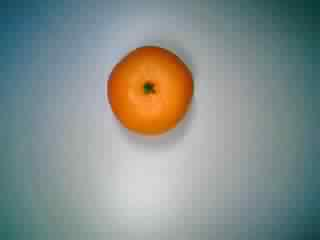orange: (105, 40, 200, 142)
